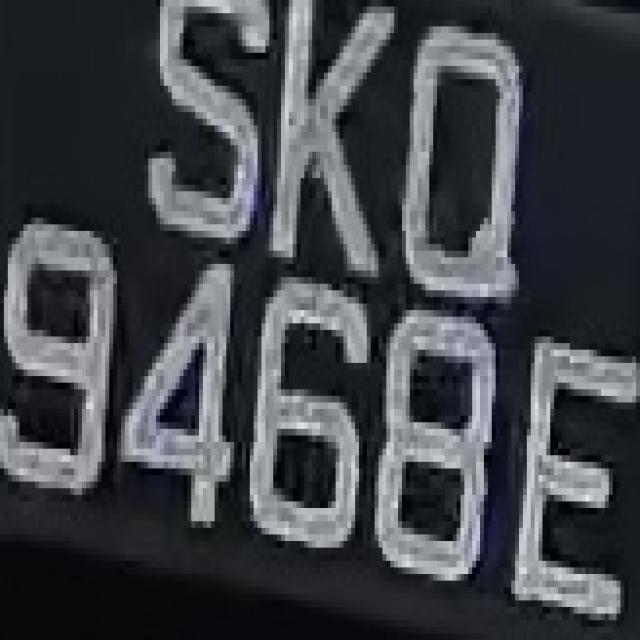4: (113, 224, 250, 528)
6: (246, 251, 371, 561)
8: (370, 284, 496, 567)
9: (4, 178, 117, 521)
E: (507, 330, 640, 614), (3, 3, 4, 7)
K: (265, 0, 398, 297)
Q: (398, 20, 531, 323)
S: (137, 7, 269, 257)
